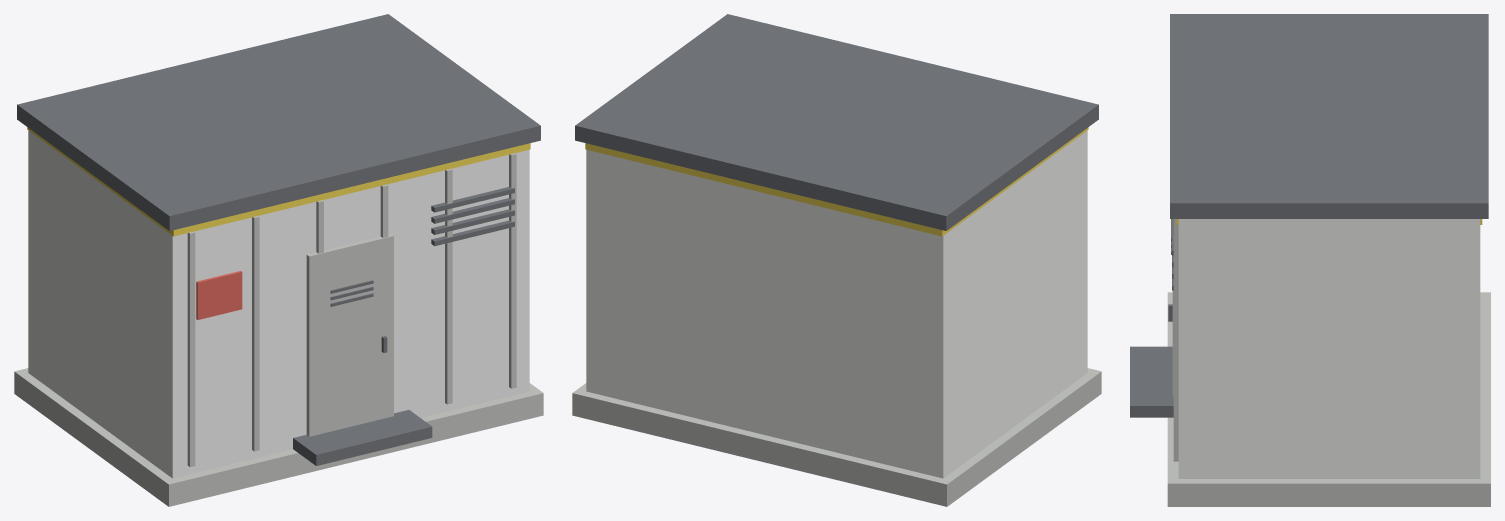
Rendered from wind-and-solar-energy-farm-control-cabin-unit-4ca07fd3__34076.glb.
The picture shows the model from 3 angles, left to right: view 1: azimuth 30°, elevation 25°; view 2: azimuth 150°, elevation 25°; view 3: azimuth 270°, elevation 25°; orthographic projection. The views are drawn at different scales.
Visible parts, largest first — view 1: control-cabin-unit, door/grey, door/charcoal; view 2: control-cabin-unit; view 3: control-cabin-unit.
Boxes of the visible parts, bbox=[...] form: control-cabin-unit: bbox=[14, 14, 543, 506]; door/grey: bbox=[306, 234, 393, 436]; door/charcoal: bbox=[330, 280, 387, 352]; control-cabin-unit: bbox=[572, 14, 1101, 506]; control-cabin-unit: bbox=[1130, 14, 1490, 506].
Size of the model in its own units: 4.2 by 3.1 by 3.35.
